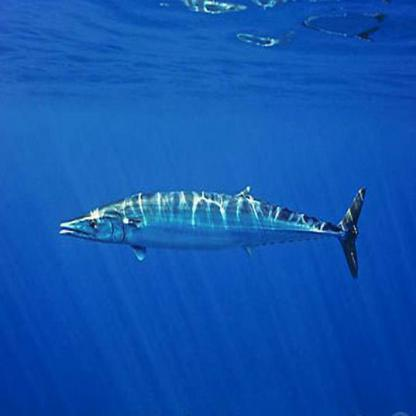Scombridae -Tunas-: (50, 172, 368, 288)
